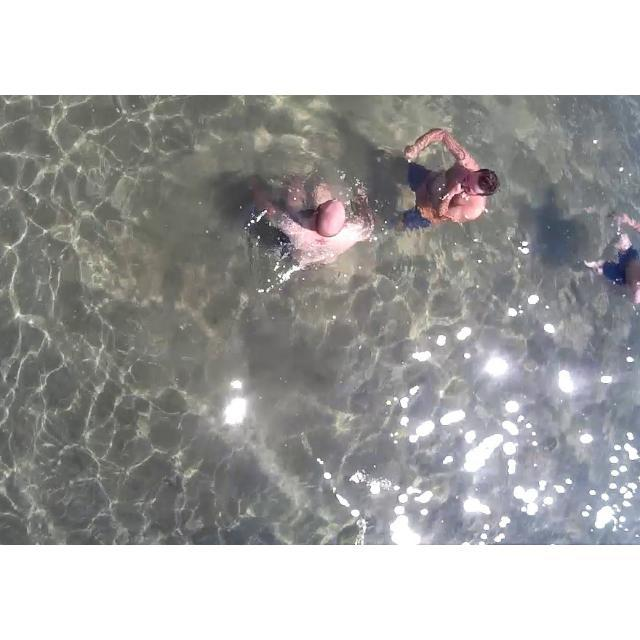human: (254, 158, 378, 278), (403, 111, 493, 243), (588, 200, 639, 309)
